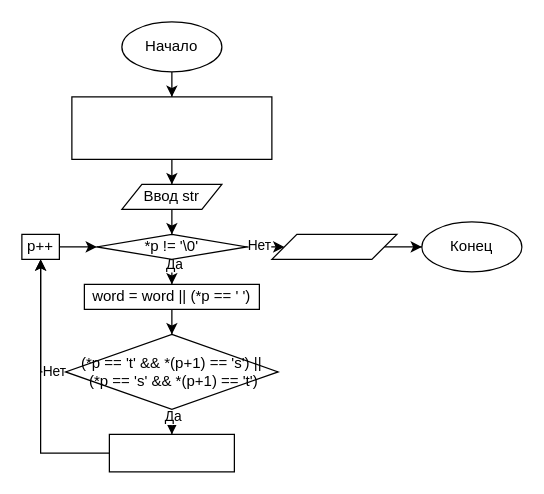
Image size: 544x494. Some labels were removed from this diagram. Here are the shapes that lost their labels. From the top down, the centre of each, then its label:
point 171,127: Массив str[101], указатель p = str, Целые числа words = 0, word = 1;
point 334,246: Вывод words
point 171,452: words += word word = 0
